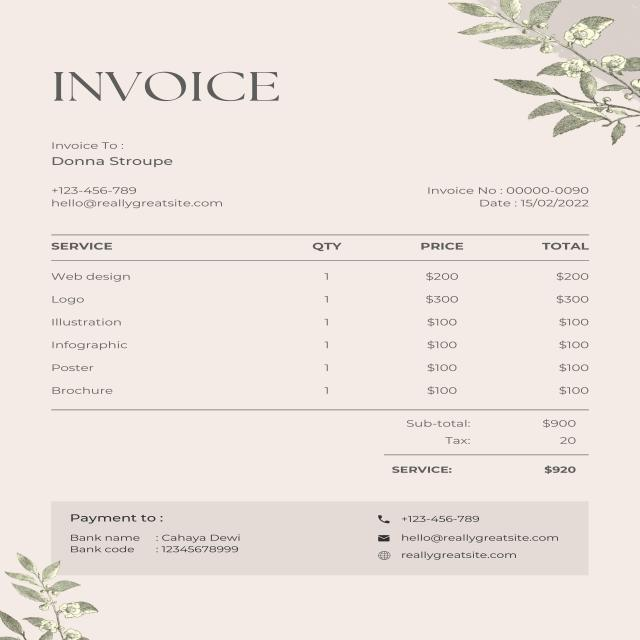ROI: (41, 230, 601, 408), (383, 414, 589, 478), (44, 67, 283, 108), (66, 509, 244, 562), (46, 183, 232, 211), (422, 181, 598, 208), (47, 140, 179, 171)
